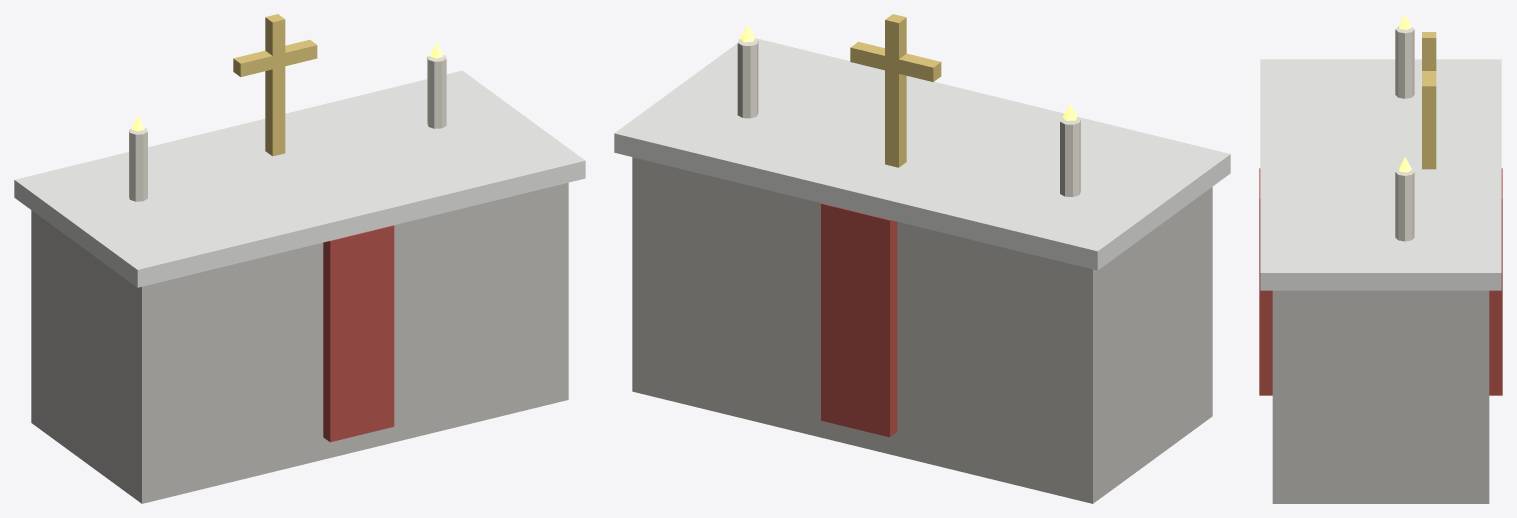
The model's file is altar.glb.
3 views of the same model, side by side, from view 1: azimuth 30°, elevation 25°; view 2: azimuth 150°, elevation 25°; view 3: azimuth 270°, elevation 25° (orthographic). The views are drawn at different scales.
Parts seen in each view (by area): view 1: altar; view 2: altar; view 3: altar.
Boxes of the visible parts, <box> form: altar: <box>14,14,585,503</box>; altar: <box>614,14,1230,503</box>; altar: <box>1259,14,1502,503</box>.
Size of the model in its own units: 2.1 by 1.68 by 1.01.
